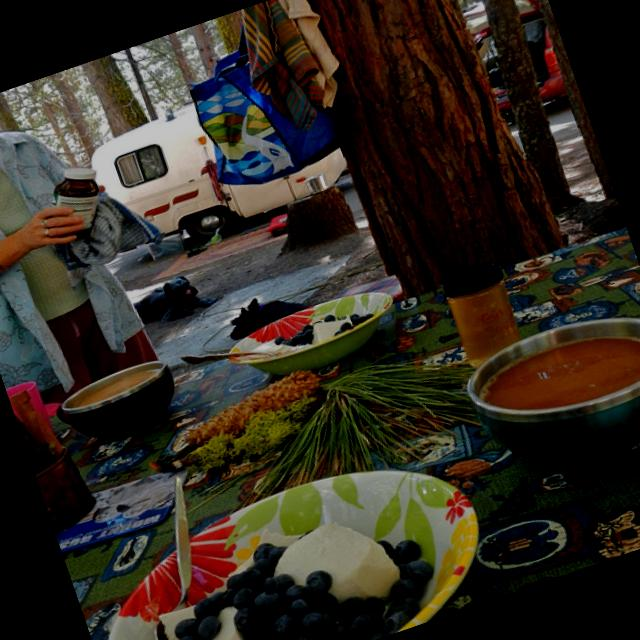Vehicle: (88, 65, 367, 269), (461, 0, 573, 122)
